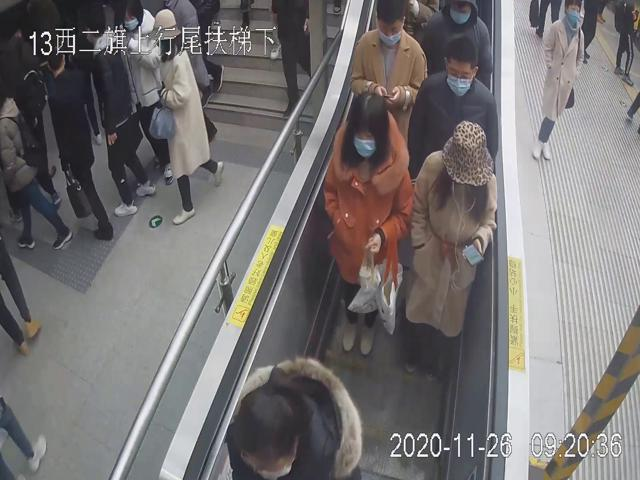person: (323, 91, 414, 358), (402, 119, 495, 377), (407, 34, 499, 185), (350, 0, 428, 148), (530, 0, 585, 162), (416, 0, 493, 97)
